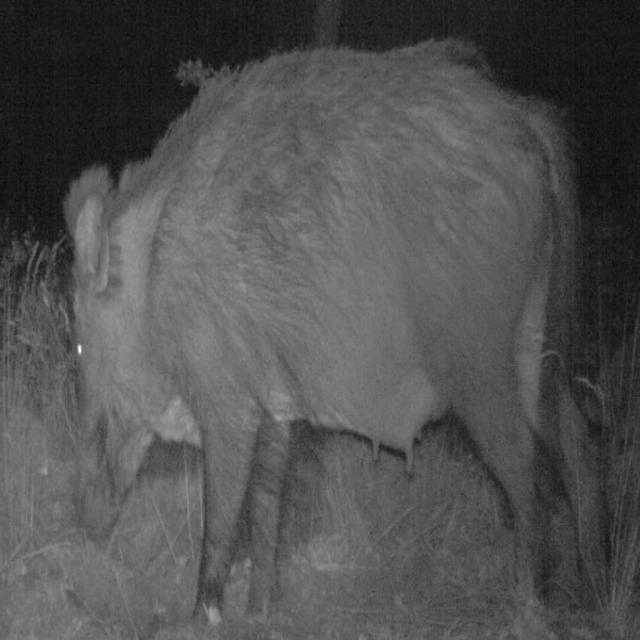pig: (61, 52, 598, 623)
